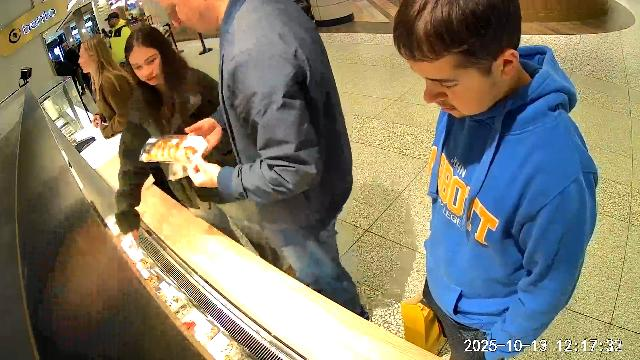sushi-box: (139, 133, 209, 165)
